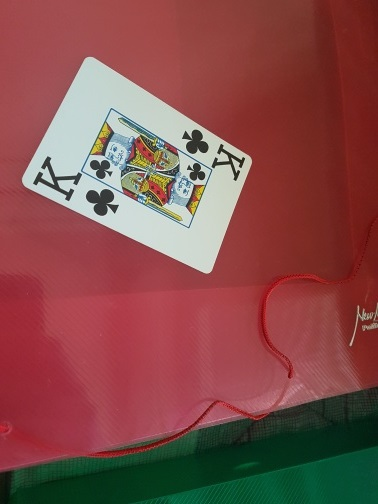king: (21, 59, 254, 274)
